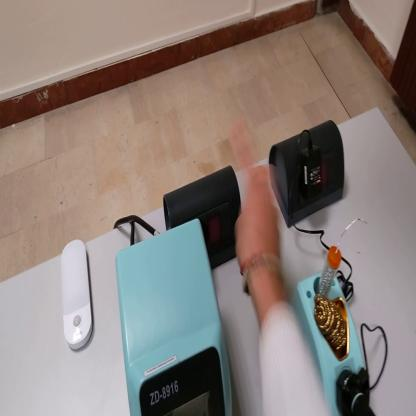hand: (234, 167, 282, 277)
socket: (270, 109, 349, 225), (165, 168, 241, 271)
welder base: (293, 235, 378, 412)
welder probe tip: (338, 370, 376, 409)
welder station: (113, 219, 239, 414)
